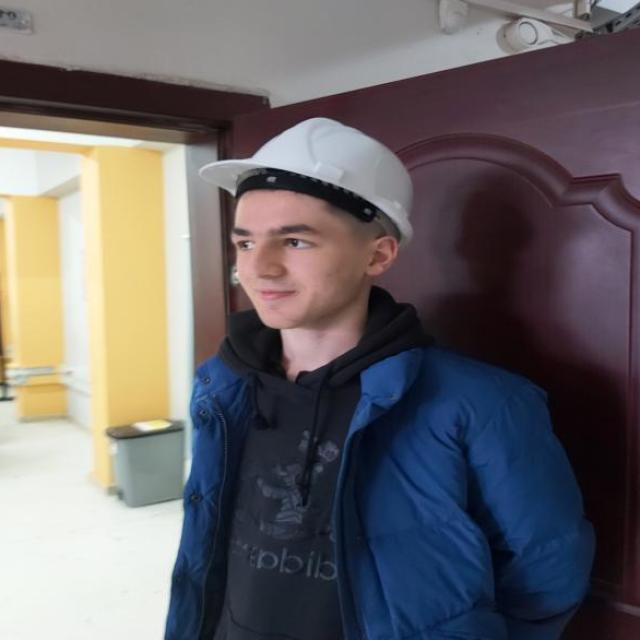helmet: (199, 116, 415, 246)
